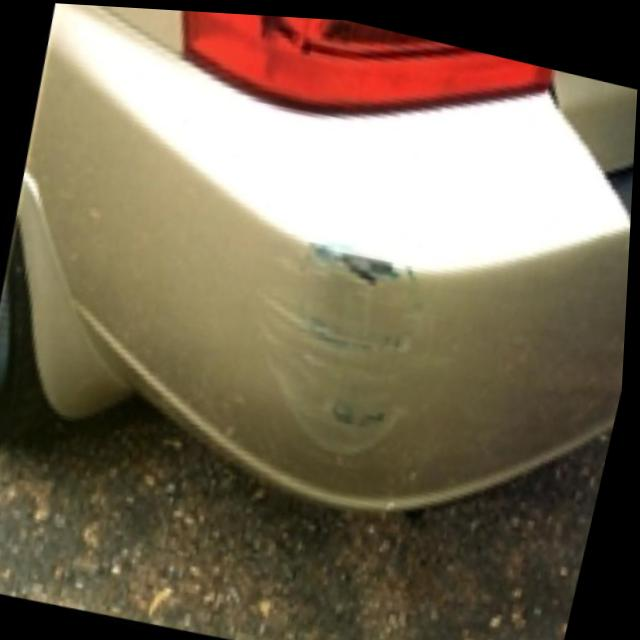Scratch: (265, 233, 435, 478)
